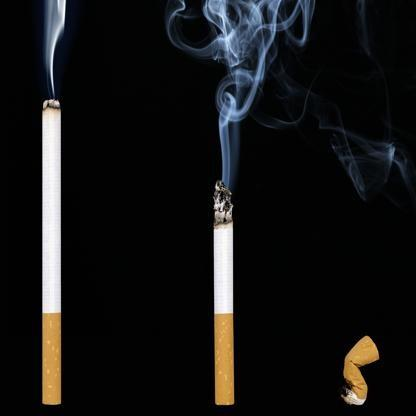trash: (40, 101, 61, 404), (212, 181, 234, 405), (340, 337, 381, 405)
